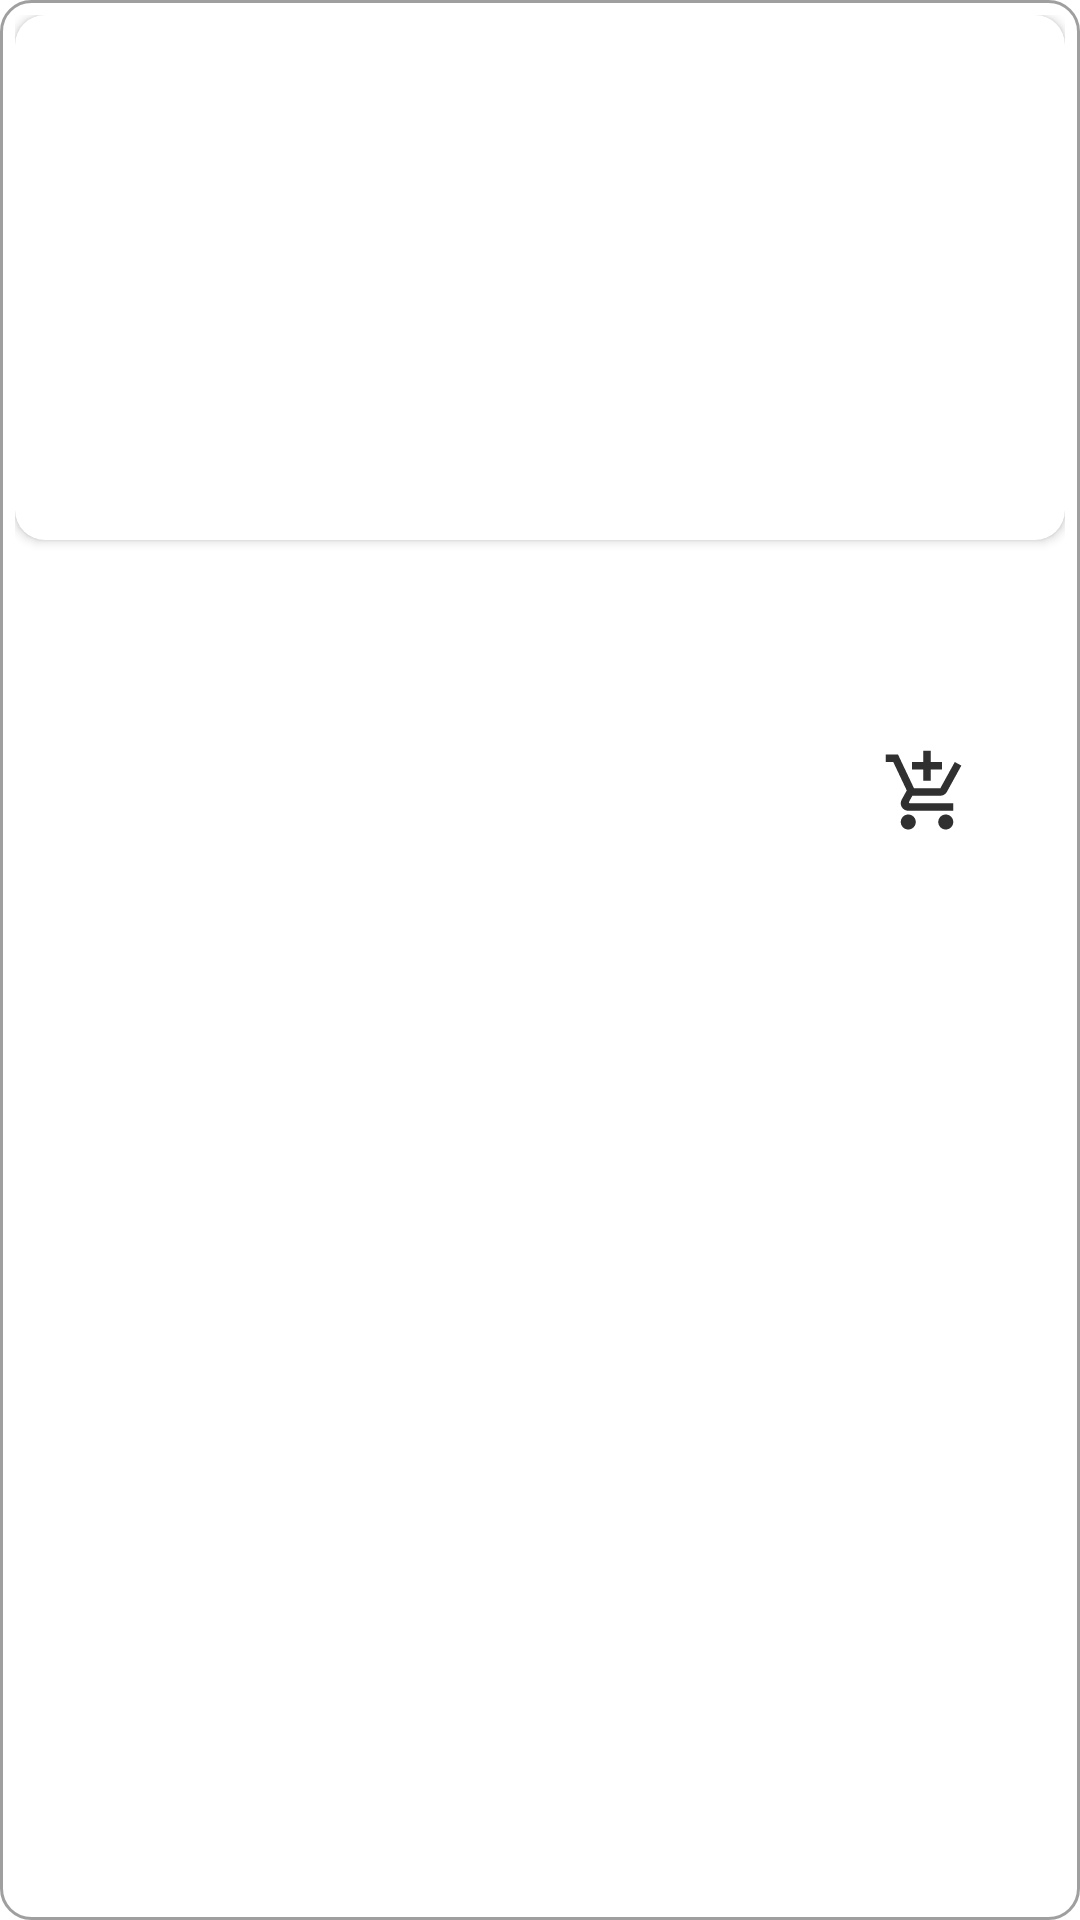

Icons on this 1080x1920 Android screen, each with the point to tap as (x,y):
add to cart: (923,790)
